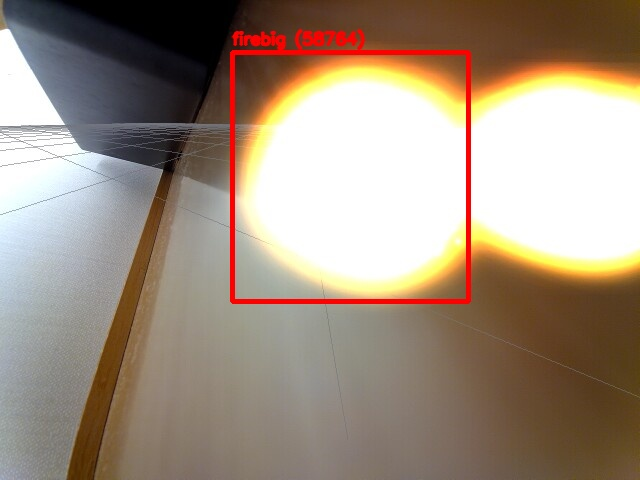firebig: (232, 52, 468, 301)
